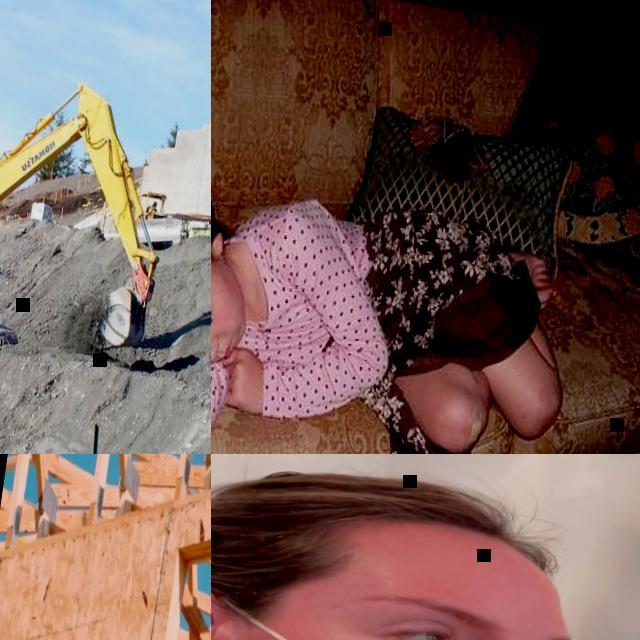vest: (148, 204, 156, 213)
